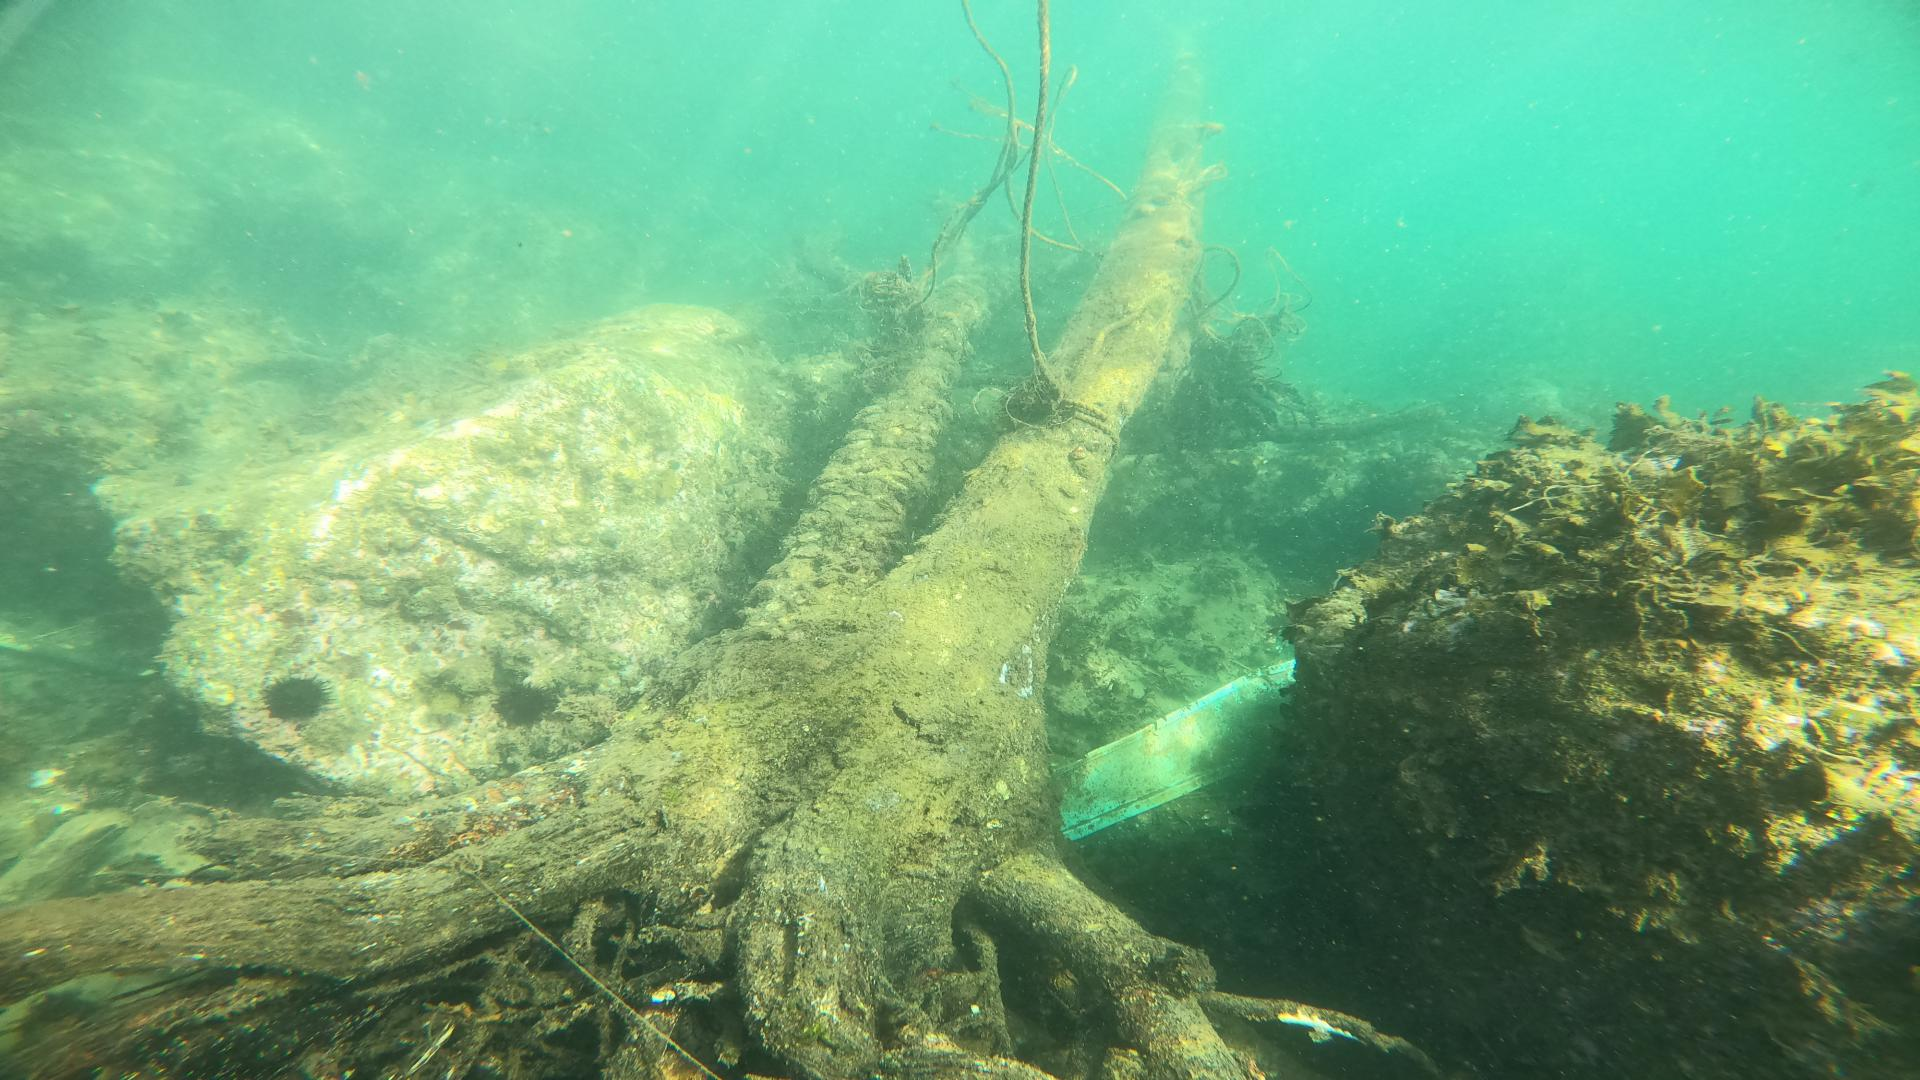bundle of ropes: (903, 0, 1311, 456)
wood: (0, 0, 1258, 1080)
